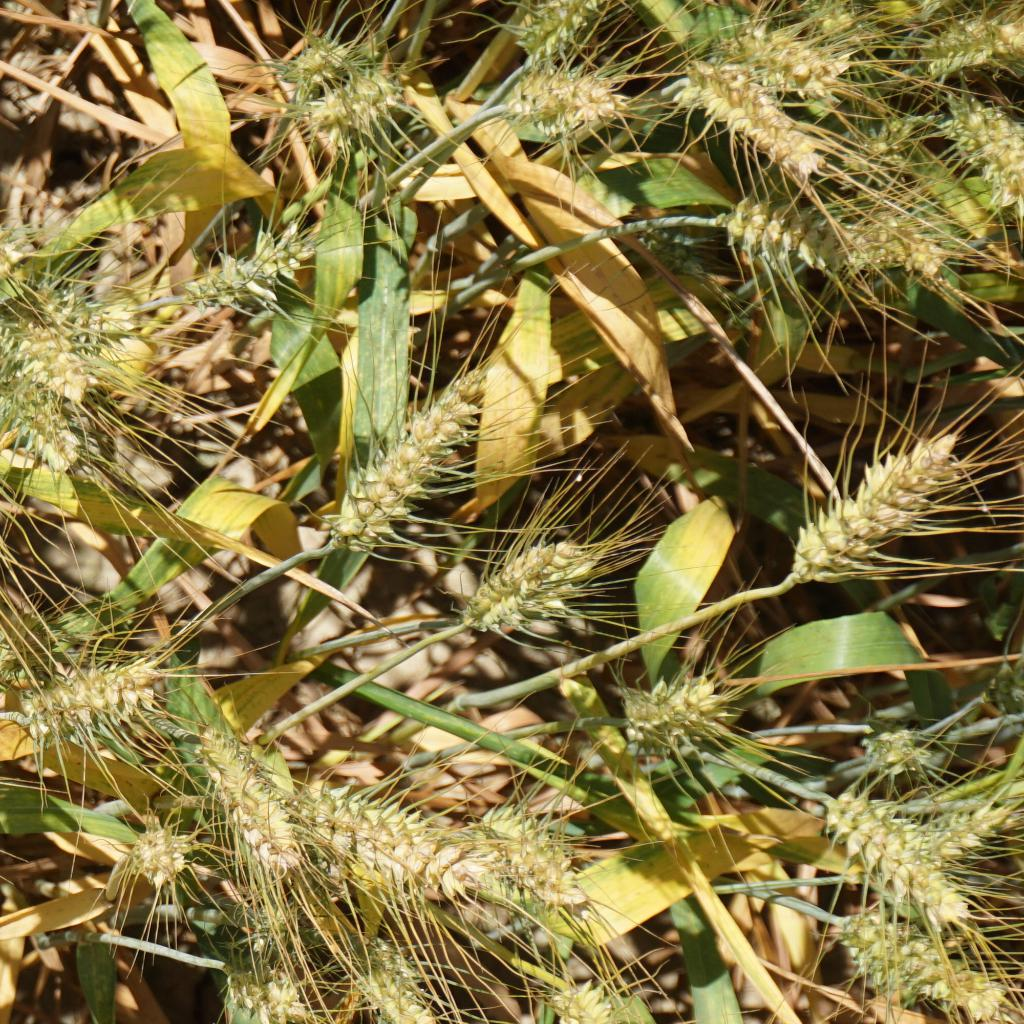0-0: (787, 419, 974, 596), (329, 361, 500, 537), (828, 903, 1015, 1024), (308, 788, 499, 904), (837, 785, 974, 936), (445, 526, 603, 644), (849, 793, 1021, 896), (163, 216, 334, 314), (194, 734, 307, 870), (694, 70, 822, 180), (605, 668, 742, 766), (4, 650, 164, 731), (695, 10, 847, 94), (478, 798, 584, 912), (343, 928, 459, 1024), (502, 58, 627, 143), (713, 188, 835, 275), (829, 201, 930, 294), (1, 377, 89, 483), (1, 316, 108, 397), (945, 89, 1024, 198), (542, 971, 700, 1024), (313, 72, 409, 146), (222, 957, 323, 1024), (915, 3, 1011, 73), (0, 582, 73, 673), (103, 808, 185, 889), (246, 889, 331, 965), (41, 276, 118, 352), (280, 22, 371, 84), (857, 710, 936, 780), (513, 0, 608, 52), (854, 118, 923, 180), (0, 197, 27, 294)
